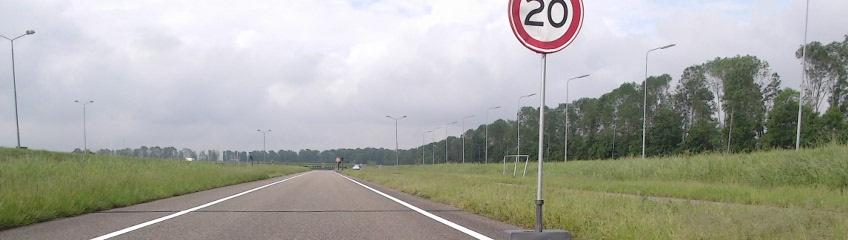Speed-limit-20km-h-: (509, 0, 584, 54)
